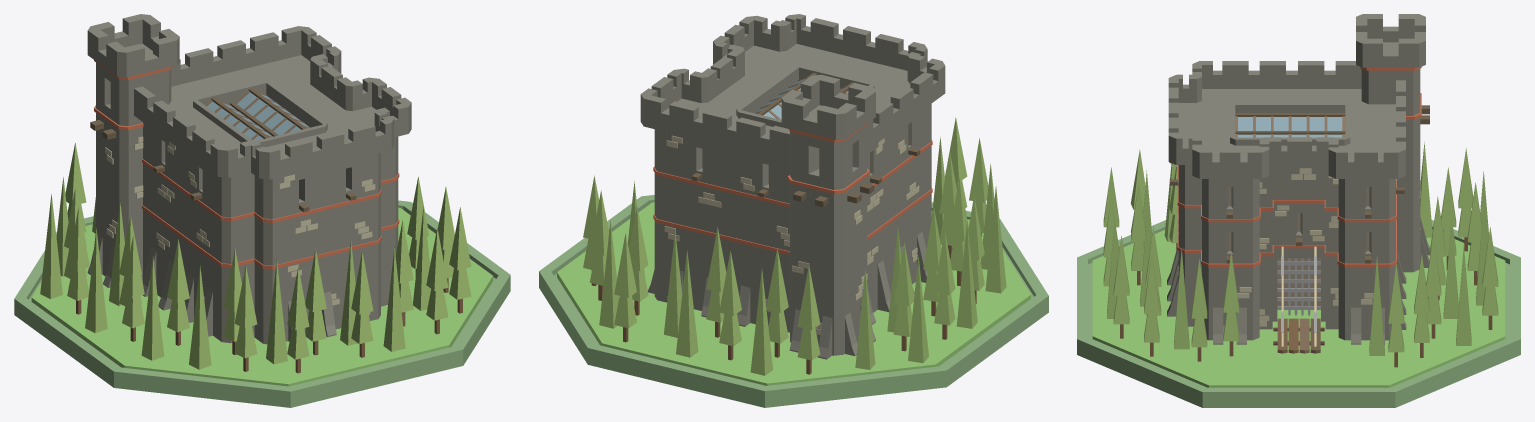
Rendered from castle4.fbx.
3 renders of one model, left to right at view 1: azimuth 30°, elevation 25°; view 2: azimuth 150°, elevation 25°; view 3: azimuth 270°, elevation 25°, orthographic. The views are drawn at different scales.
Visible parts, largest first — view 1: Castle_, Platform, Tree_2_15, Tree_2_13, Tree_2_14, Tree_2_17, Tree_2_11, Tree_2_9, Tree_2_8, Tree_2_7, Tree_2_6, Tree_1_11 (+16 smaller); view 2: Castle_, Platform, Tree_2_19, Tree_2_4, Tree_2_3, Tree_2_1, Tree_2_17, Tree_2_18, Tree_1, Tree_1_1, Tree_2, Tree_1_8 (+17 smaller); view 3: Castle_, Platform, Tree_2_22, Tree_2_10, Tree_2_21, Tree_2_4, Tree_2_7, Tree_2_20, Tree_2_11, Tree_2_2, Tree_2_6, Tree_2_19 (+16 smaller).
Part boxes in pixels (x1,y1,x2,y2): Castle_: (87, 14, 411, 344); Platform: (14, 200, 510, 407); Tree_2_15: (234, 265, 257, 371); Tree_2_13: (167, 239, 189, 345); Tree_2_14: (122, 235, 144, 341); Tree_2_17: (67, 208, 89, 314); Tree_2_11: (449, 207, 471, 313); Tree_2_9: (351, 251, 373, 357); Tree_2_8: (287, 267, 309, 373); Tree_2_7: (426, 228, 448, 334); Tree_2_6: (305, 249, 326, 355); Tree_1_11: (40, 194, 62, 298); Castle_: (640, 14, 945, 359); Platform: (539, 195, 1048, 407); Tree_2_19: (797, 265, 820, 374); Tree_2_4: (614, 233, 636, 342); Tree_2_3: (719, 251, 741, 360); Tree_2_1: (766, 248, 788, 357); Tree_2_17: (934, 230, 955, 339); Tree_2_18: (893, 242, 914, 351); Tree_1: (676, 249, 698, 357); Tree_1_1: (750, 268, 773, 375); Tree_2: (706, 227, 726, 337); Tree_1_8: (985, 186, 1006, 293); Castle_: (1167, 14, 1429, 353); Platform: (1077, 220, 1520, 407); Tree_2_22: (1223, 253, 1239, 356); Tree_2_10: (1191, 258, 1207, 361); Tree_2_21: (1388, 264, 1404, 367); Tree_2_4: (1482, 227, 1498, 329); Tree_2_7: (1113, 236, 1129, 338); Tree_2_20: (1414, 254, 1429, 357); Tree_2_11: (1144, 253, 1159, 356); Tree_2_2: (1426, 236, 1441, 338); Tree_2_6: (1131, 182, 1145, 285); Tree_2_19: (1458, 148, 1473, 251).
Bounding box in the file's own units: 810 × 497 × 810.
Materials: 1 (1 with a texture image).
